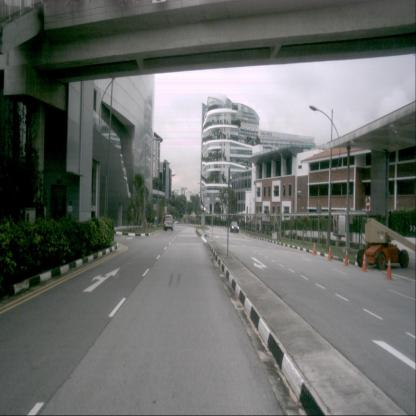movable_object-trafficcone: (384, 258, 394, 280), (360, 251, 368, 272), (343, 248, 350, 266), (327, 247, 332, 262), (312, 242, 317, 256)
vehicle-car: (164, 214, 174, 231), (230, 221, 239, 233)
